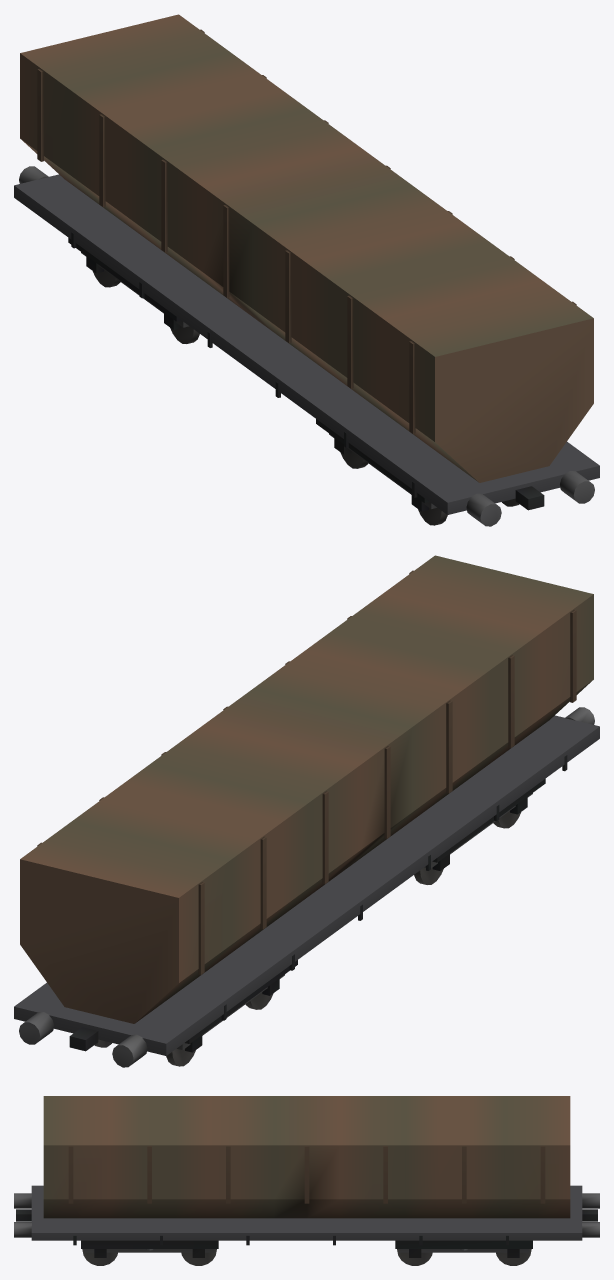
Rendered from wagen_schuett.glb.
3 renders of one model, top to bottom at view 1: azimuth 30°, elevation 25°; view 2: azimuth 150°, elevation 25°; view 3: azimuth 270°, elevation 25°, orthographic. The views are drawn at different scales.
Visible parts, largest first — view 1: lack; view 2: lack; view 3: lack.
Boxes of the visible parts, bbox=[...] form: lack: bbox=[14, 14, 599, 526]; lack: bbox=[14, 555, 599, 1067]; lack: bbox=[14, 1096, 599, 1265].
Bounding box in the file's own units: 3.05 × 3.71 × 14.9.
